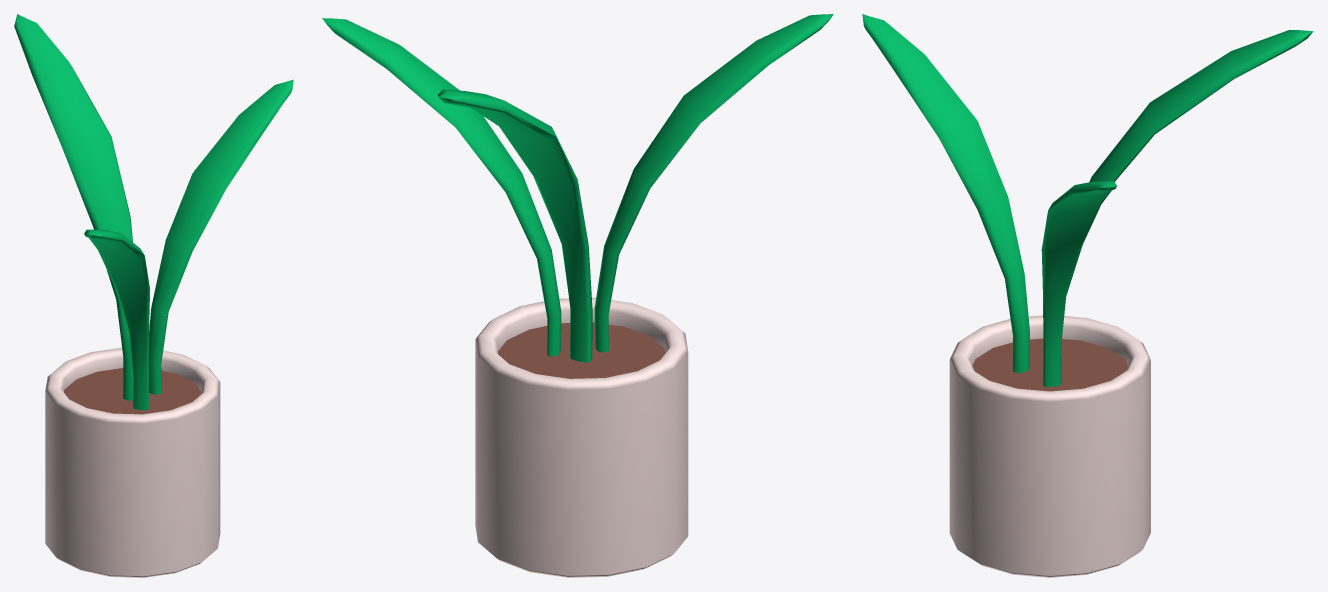
Rendered from Store_7_Plant_2.glb.
The picture shows the model from 3 angles, left to right: view 1: azimuth 30°, elevation 25°; view 2: azimuth 150°, elevation 25°; view 3: azimuth 270°, elevation 25°; orthographic projection. The views are drawn at different scales.
Parts seen in each view (by area): view 1: Store_7_Plant_2; view 2: Store_7_Plant_2; view 3: Store_7_Plant_2.
Part boxes in pixels (x1,y1,x2,y2): Store_7_Plant_2: (14,14,293,577); Store_7_Plant_2: (322,14,833,577); Store_7_Plant_2: (862,14,1313,577).
Size of the model in its own units: 0.5276 by 0.7193 by 0.5799.
Materials: 1 (1 with a texture image).
